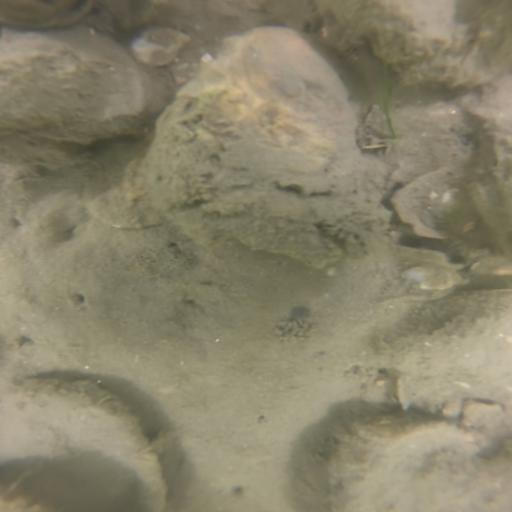Oyster-Closed: (134, 23, 379, 277), (1, 376, 177, 512), (321, 411, 512, 512), (8, 21, 150, 147), (319, 1, 512, 92), (1, 1, 97, 31)
